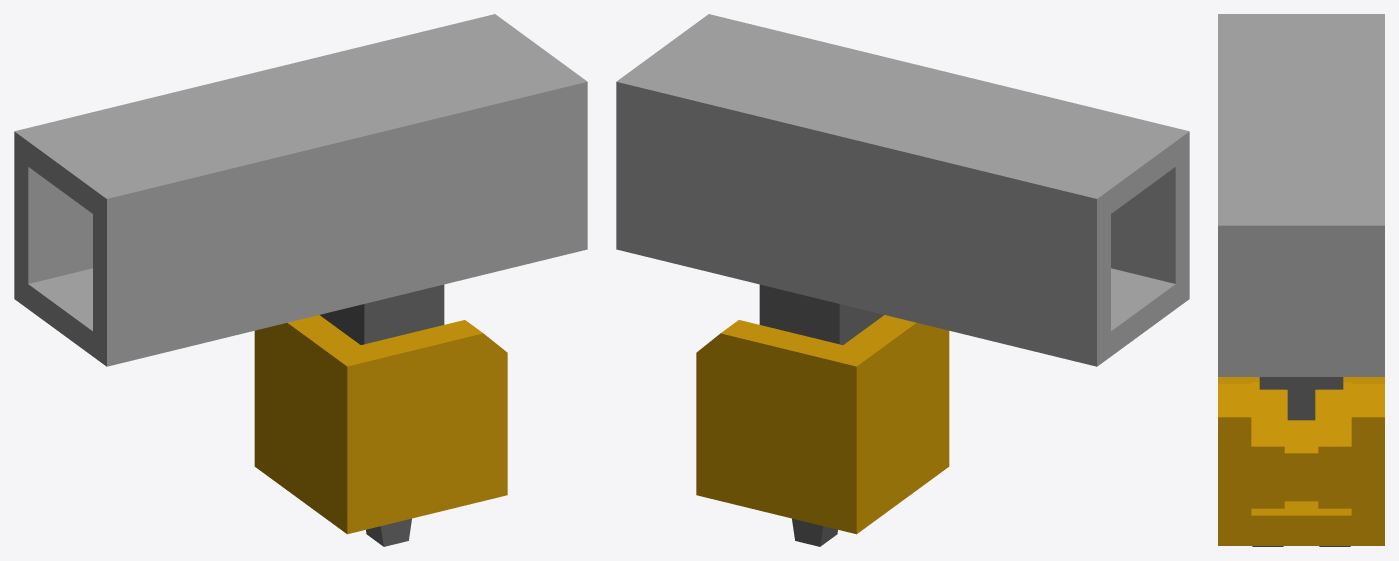
File: BOUM.fbx
3 views of the same model, side by side, from view 1: azimuth 30°, elevation 25°; view 2: azimuth 150°, elevation 25°; view 3: azimuth 270°, elevation 25° (orthographic). The views are drawn at different scales.
Parts seen in each view (by area): view 1: Cannon, Body, CannonHinge, LeftFoot; view 2: Cannon, Body, CannonHinge, RightFoot; view 3: Cannon, Body, CannonHinge.
Boxes of the visible parts, x1,y1,x2,y2 form: Cannon: (14, 14, 587, 366); Body: (254, 315, 507, 534); CannonHinge: (320, 284, 444, 344); LeftFoot: (366, 518, 411, 546); Cannon: (616, 14, 1189, 366); Body: (696, 315, 949, 534); CannonHinge: (759, 284, 883, 344); RightFoot: (792, 518, 837, 546); Cannon: (1218, 14, 1384, 376); Body: (1218, 377, 1384, 545); CannonHinge: (1259, 377, 1343, 420).
Size of the model in its own units: 600 by 518 by 200.
